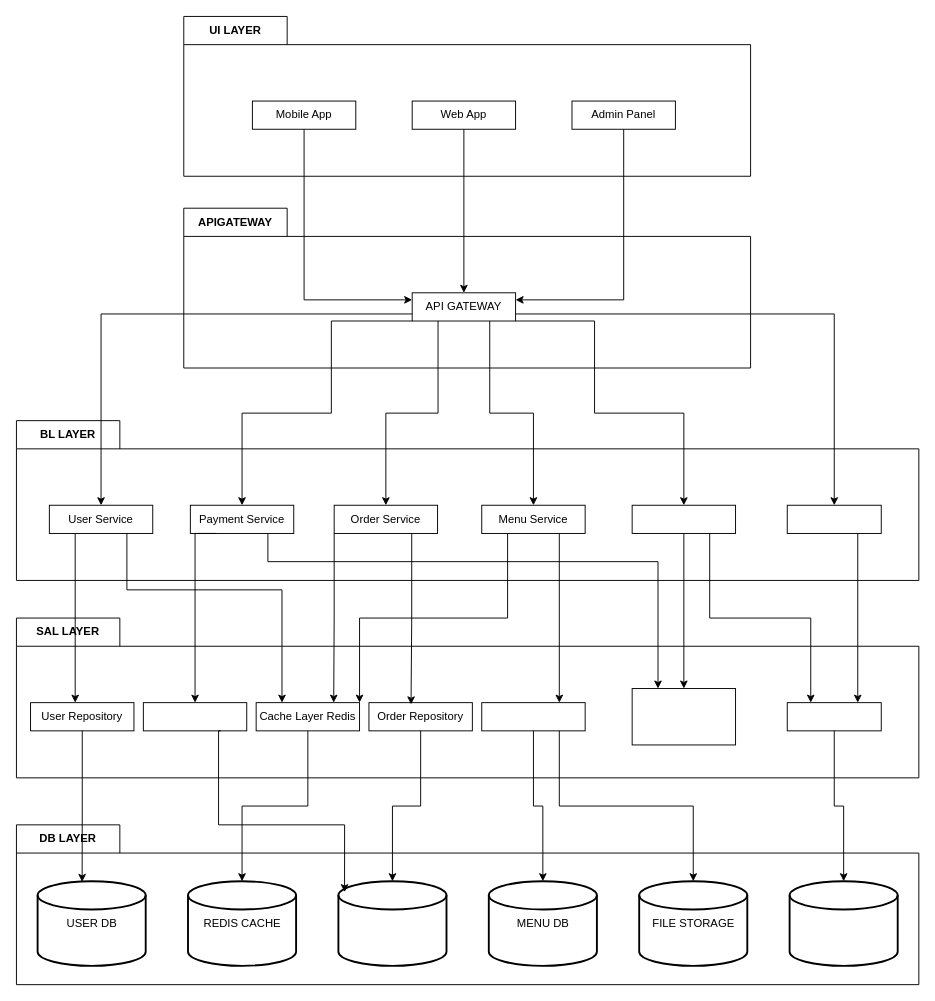
Some shapes in this 935 by 1001 pixel diagram are drawn without their labels. Here are the shapes that lost their labels. From the top down, the centre of each, then its label:
At (x=683, y=518): "Delivery Service".
At (x=833, y=518): "Restaurant Service".
At (x=194, y=716): "Payment Repository".
At (x=533, y=716): "Menu Repository".
At (x=683, y=716): "External APIs Maps, SMS, payments Gateway".
At (x=833, y=716): "Restaurant Repository".
At (x=392, y=923): "ORDERS DB".
At (x=843, y=923): "RESTAURANT DB".
